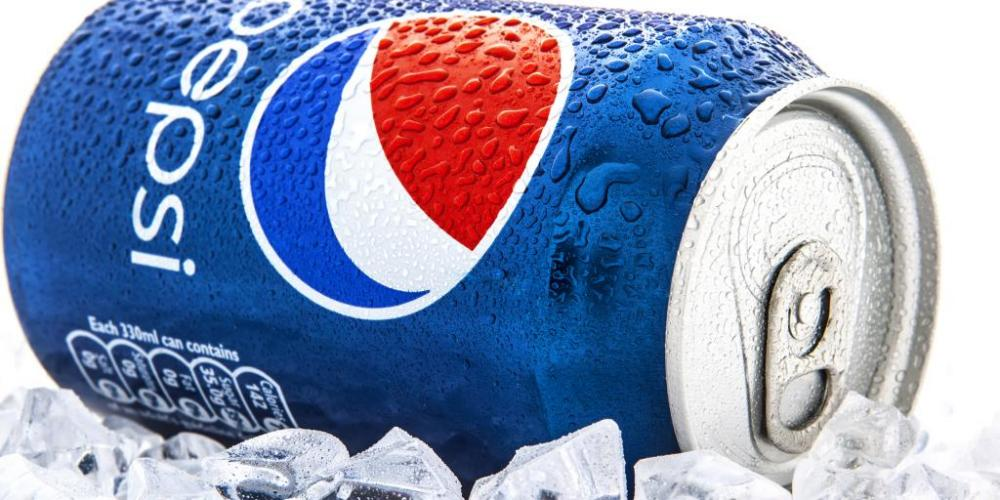pepsi: (230, 8, 573, 318), (230, 17, 556, 318)
